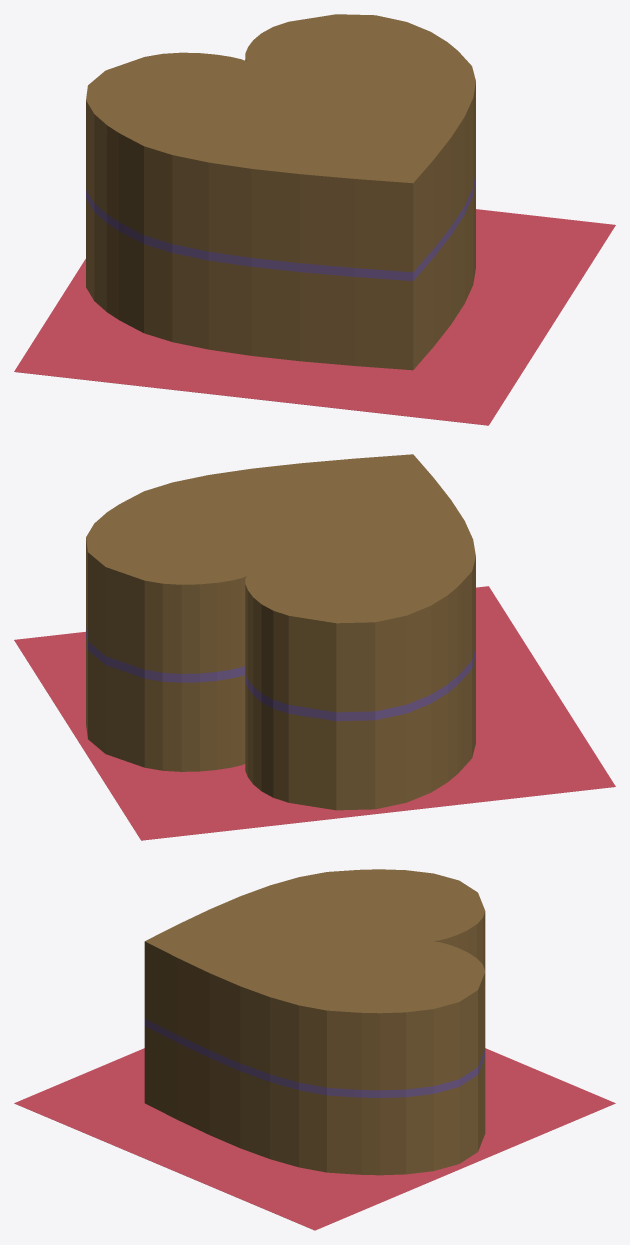
Rendered from CUC.glb.
3 renders of one model, top to bottom at view 1: azimuth 30°, elevation 25°; view 2: azimuth 150°, elevation 25°; view 3: azimuth 270°, elevation 25°, orthographic. The views are drawn at different scales.
Parts seen in each view (by area): view 1: Mesh_Mesh_head_geo.001_lambert2SG.001; view 2: Mesh_Mesh_head_geo.001_lambert2SG.001; view 3: Mesh_Mesh_head_geo.001_lambert2SG.001.
Boxes of the visible parts, box(x1,y1,x2,y2) form: Mesh_Mesh_head_geo.001_lambert2SG.001: box(14, 14, 615, 425); Mesh_Mesh_head_geo.001_lambert2SG.001: box(14, 454, 615, 840); Mesh_Mesh_head_geo.001_lambert2SG.001: box(14, 869, 615, 1230).
Size of the model in its own units: 0.0354 by 0.0105 by 0.0354.
